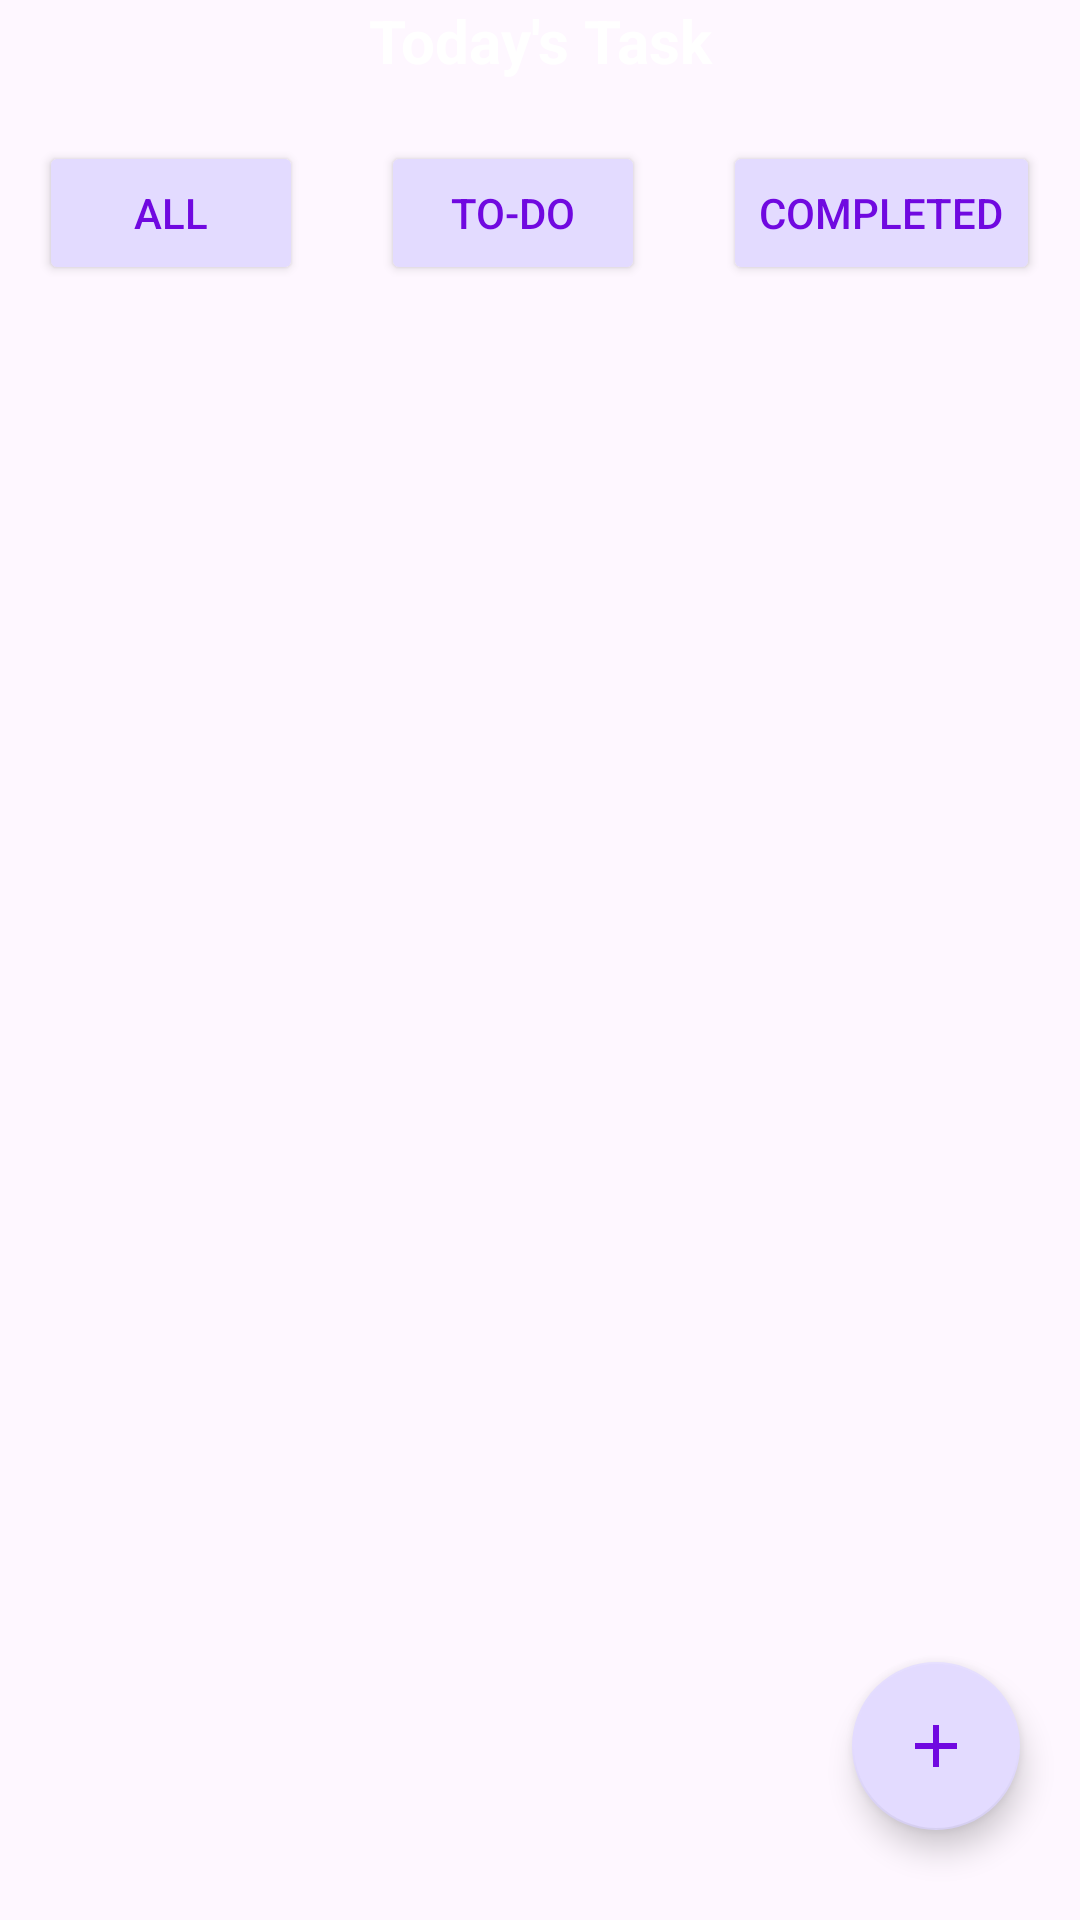

Icon bounding boxes for this 1080w x 1920h phone screenshot, format box=[x1, y1, x2, y2]:
add: box=[852, 1664, 1020, 1830]
